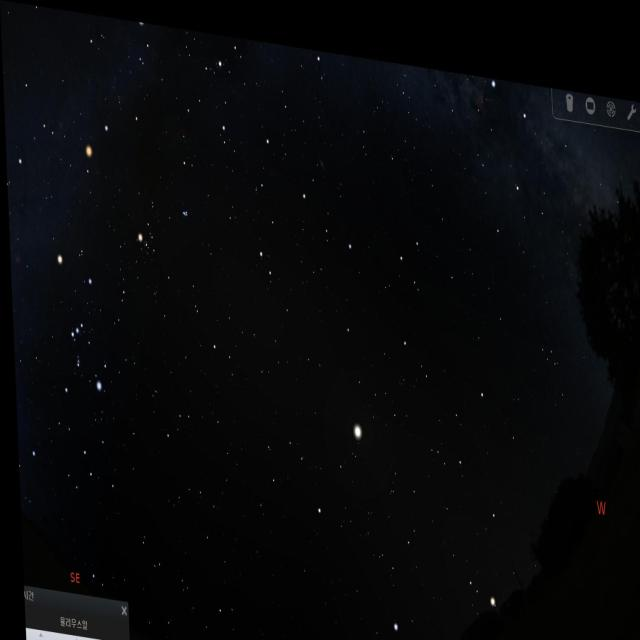cygnus: (484, 61, 592, 240)
orion: (40, 243, 112, 406)
pleiades: (176, 195, 194, 227)
taurus: (133, 182, 194, 287)
